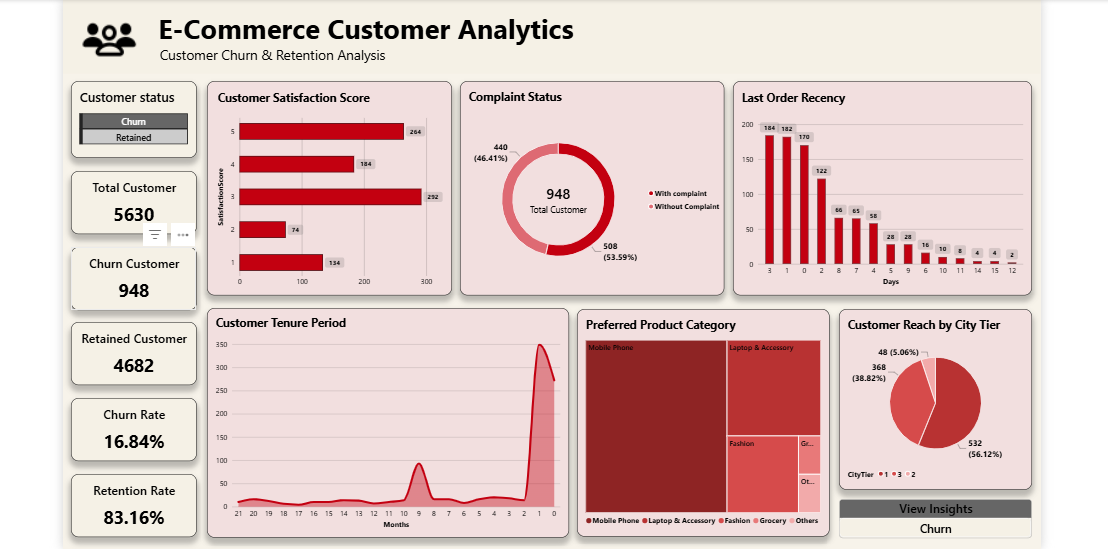

What the dashboard file says about the page in this screenshot:
{"tool":"powerbi","page":{"name":"Dashboard","canvas":[1920,1080],"ordinal":0},"visuals":[{"type":"card","title":"Total Customer","fields":{"Values":["Table1.total customer"]},"box":[14.9,337.4,246.8,124],"z":0},{"type":"listSlicer","fields":{"Values":["Table1.Status"]},"box":[14.9,161.7,246.8,151.1],"z":1000},{"type":"columnChart","title":"Last Order Recency","fields":{"Category":["Table1.DaySinceLastOrder"],"Y":["Table1.vtotal customer"]},"box":[1314.9,161.7,587.2,421.3],"z":2000},{"type":"card","title":"Retained Customer","fields":{"Values":["Table1.Retain customer"]},"box":[14.9,634.7,246.8,124],"z":3000},{"type":"card","title":"Churn Rate","fields":{"Values":["Table1.churn rate"]},"box":[14.9,783.3,246.8,124],"z":4000},{"type":"card","title":"Churn Customer","fields":{"Values":["Table1.chur customer"]},"box":[14.9,486,246.8,124],"z":5000},{"type":"card","title":"Retention Rate","fields":{"Values":["Table1.Retain rate"]},"box":[14.9,931.9,246.8,124],"z":6000},{"type":"donutChart","title":"Complaint Status","fields":{"Category":["Table1.vcomplaint"],"Y":["Table1.vtotal customer"]},"box":[778.7,161.7,519.1,421.3],"z":7000},{"type":"barChart","title":"Customer Satisfaction Score","fields":{"Category":["Table1.SatisfactionScore"],"Y":["Table1.vtotal customer"]},"box":[283,161.7,480.9,421.3],"z":8000},{"type":"lineChart","title":"Customer Tenure Period","fields":{"Category":["Table1.Tenure"],"Y":["Table1.vtotal customer"]},"box":[283,606.4,710.6,451.1],"z":9000},{"type":"pieChart","title":"Customer Reach by City Tier","fields":{"Category":["Table1.CityTier"],"Y":["Table1.vtotal customer"]},"box":[1523.4,608.5,378.7,355.3],"z":10000},{"type":"treemap","title":"Preferred Product Category","fields":{"Group":["Table1.PreferedOrderCat"],"Values":["Table1.vtotal customer"]},"box":[1008.5,608.5,495.7,446.8],"z":11000},{"type":"cardVisual","title":"View Insights","fields":{"Data":["Min(Table1.Status)"]},"box":[1523.4,980.9,378.7,76.6],"z":12000},{"type":"textbox","title":"         E-Commerce Customer Analytics","box":[0,0,1919.1,146.8],"z":13000},{"type":"image","box":[32.5,0,115,147.5],"z":14000}]}

Visuals, with their boxes on the page's 1920x1080 design canvas (x1, y1, x2, y2). These are canvas units, not pixel positions in the 1108x549 screenshot, which may show the page scaled, cropped or inside an application window:
"Total Customer" card: 15 337 262 461
listSlicer - Table1.Status: 15 162 262 313
"Last Order Recency" columnChart: 1315 162 1902 583
"Retained Customer" card: 15 635 262 759
"Churn Rate" card: 15 783 262 907
"Churn Customer" card: 15 486 262 610
"Retention Rate" card: 15 932 262 1056
"Complaint Status" donutChart: 779 162 1298 583
"Customer Satisfaction Score" barChart: 283 162 764 583
"Customer Tenure Period" lineChart: 283 606 994 1058
"Customer Reach by City Tier" pieChart: 1523 608 1902 964
"Preferred Product Category" treemap: 1008 608 1504 1055
"View Insights" cardVisual: 1523 981 1902 1058
"         E-Commerce Customer Analytics" textbox: 0 0 1919 147
image: 32 0 148 148
